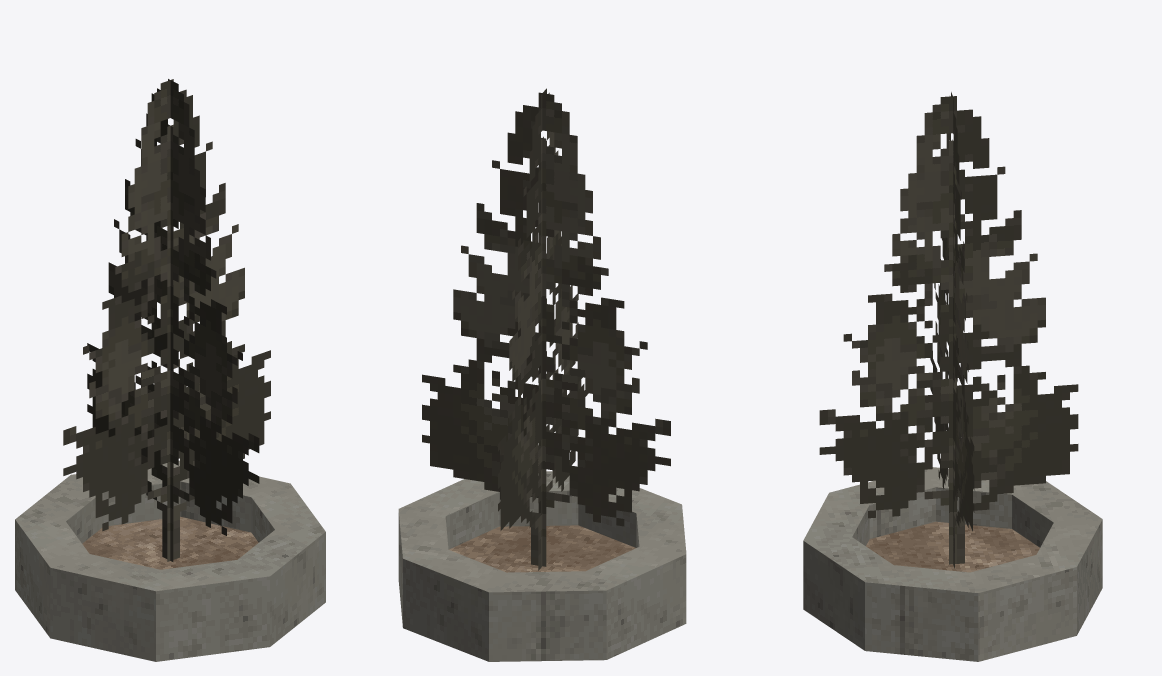
File: procgen-procpain-tree-park-pine-large-xm1z2.obj
3 views of the same model, side by side, from view 1: azimuth 30°, elevation 25°; view 2: azimuth 150°, elevation 25°; view 3: azimuth 270°, elevation 25° (orthographic). The views are drawn at different scales.
Bounding box in the file's own units: 7.33 × 10.44 × 7.33.
